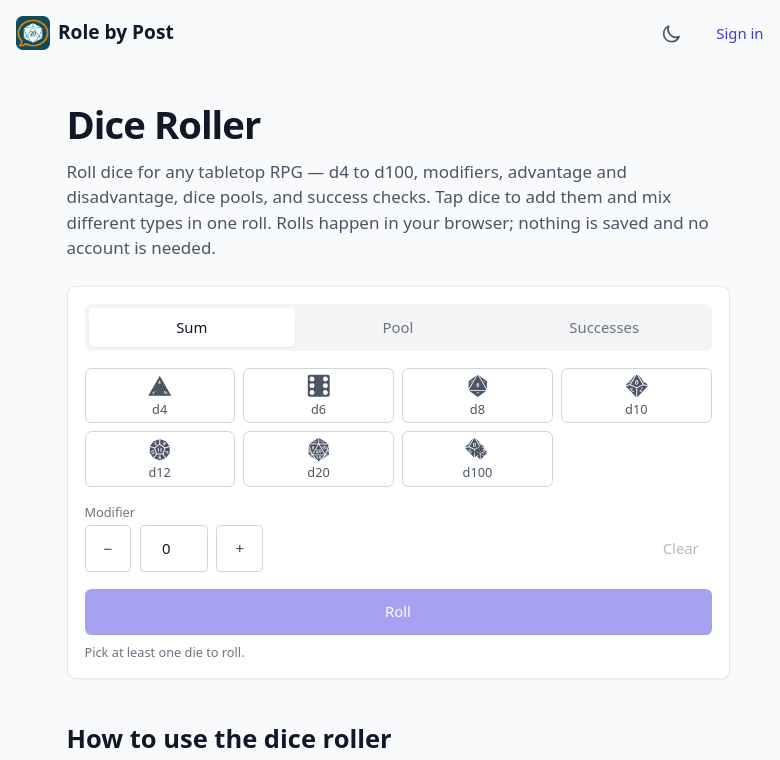
Test: DiceRollerPage › keeps Clear visible but disabled until a die is picked, then clears the selection (#697)
This screenshot has width=780, height=760.
expect the button with aria-label "Clear dice" is disabled: met, box [650, 525, 712, 572]
Click the button "d20" at (319, 459), box [243, 431, 394, 486]
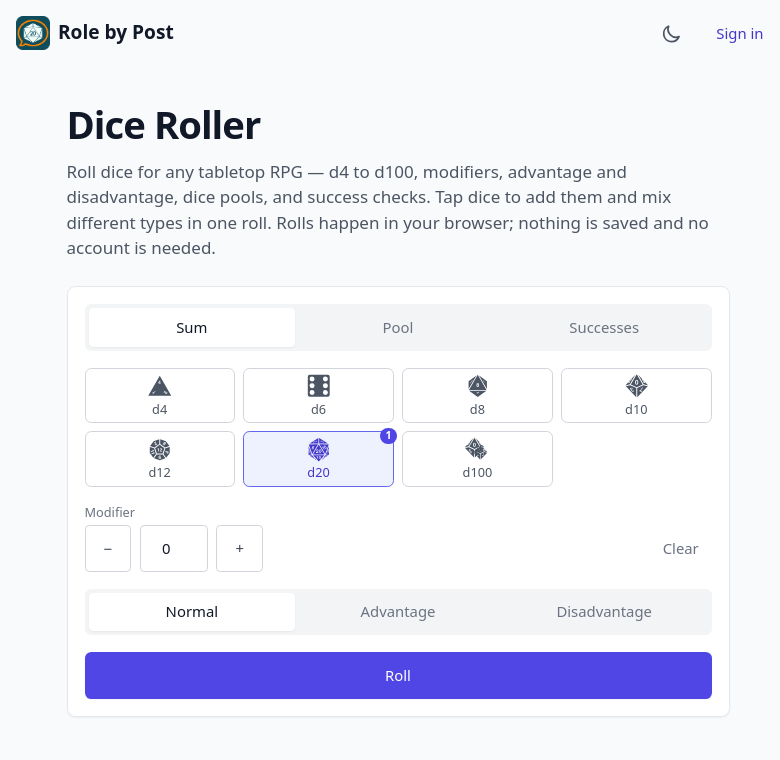
expect the button with aria-label "Clear dice" is enabled: met
Click the button with aria-label "Clear dice" at (681, 548), box [650, 525, 712, 572]
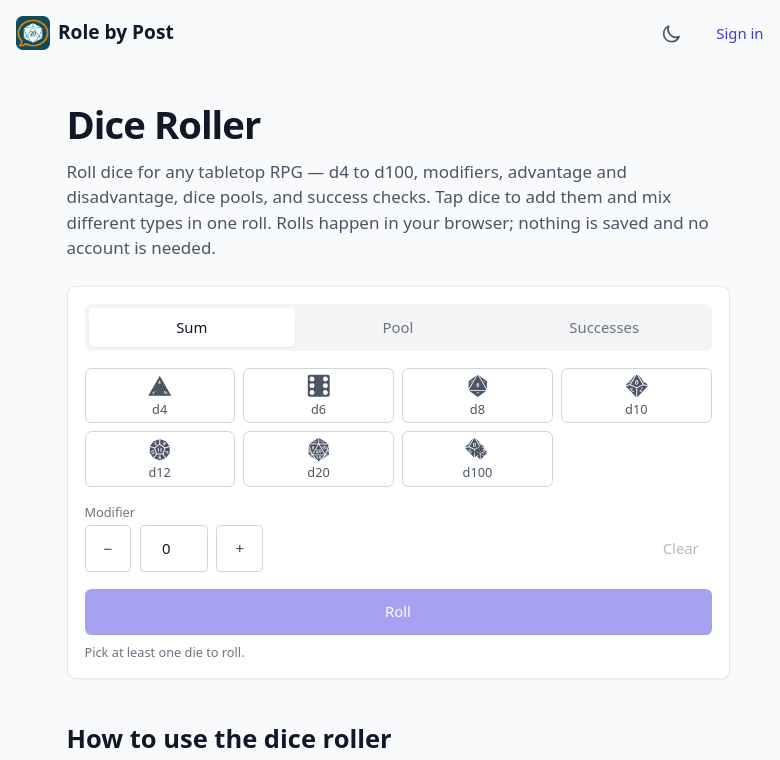
expect the button "Roll" is disabled: met, box [84, 588, 712, 635]
